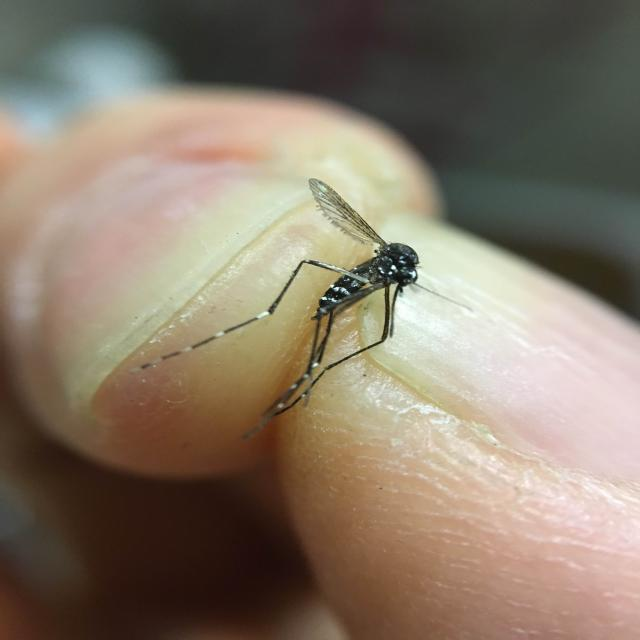albopictus: (142, 172, 461, 446)
